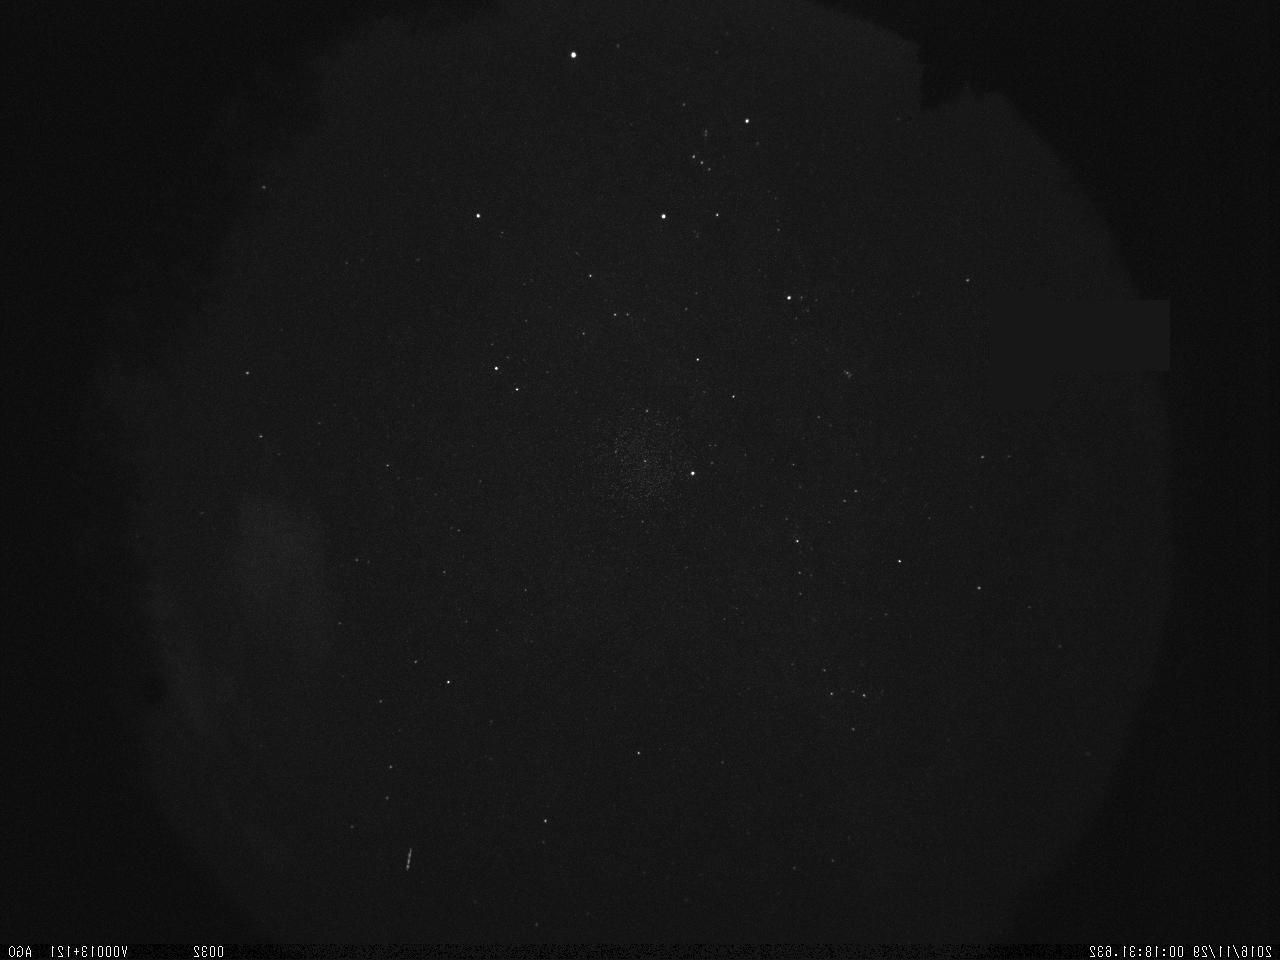meteor: (399, 843, 419, 878)
